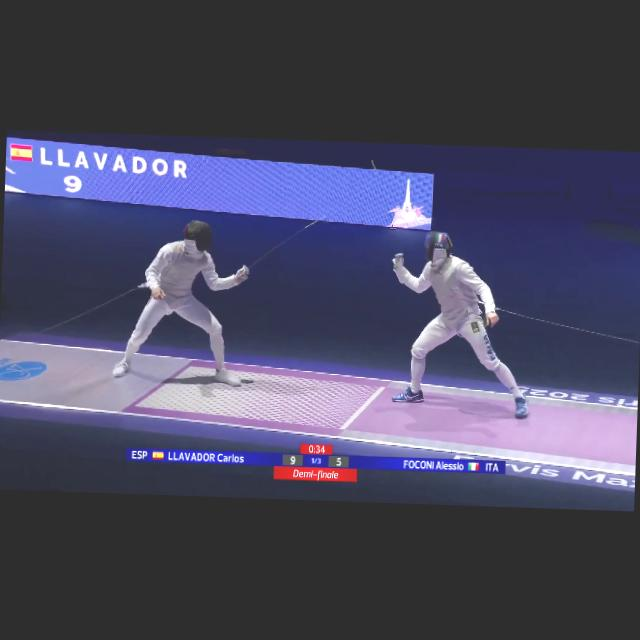blade: (235, 203, 338, 281), (364, 156, 416, 269)
